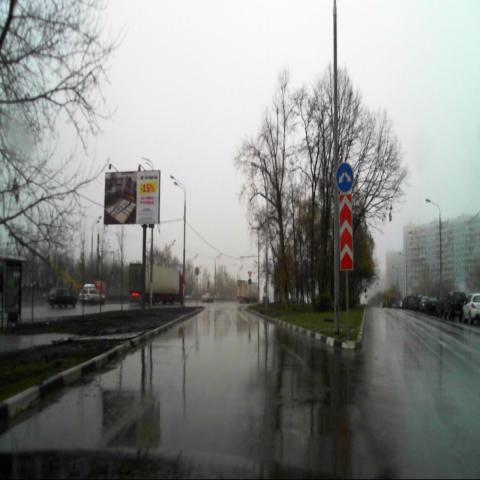4_2_3: (335, 163, 353, 192)
